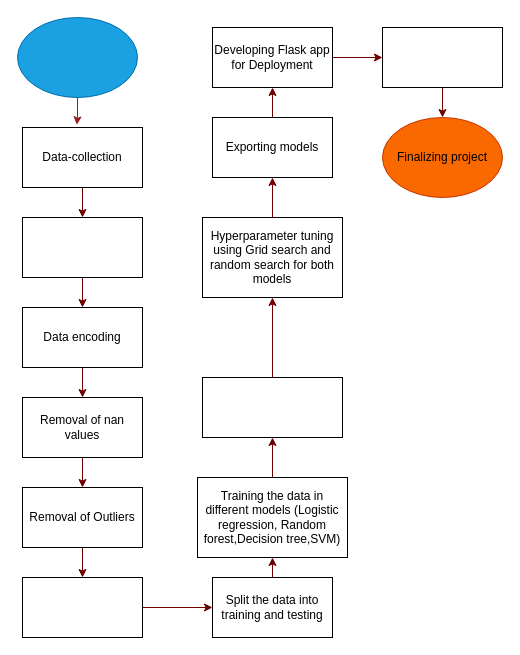
Some shapes in this 520 by 655 pixel diagram are drawn without their labels. The centre of each missing label's shape, as x and y in pixels:
Exploratory data analysis (Visualization): the point at 82,247
Initializing project: the point at 77,57
MinMax scaling the data: the point at 82,607
Selecting best 2 models: Logistic regression and Random Forest: the point at 272,407
Testing Project: the point at 442,57
